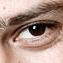eye: (29, 25, 46, 36)
